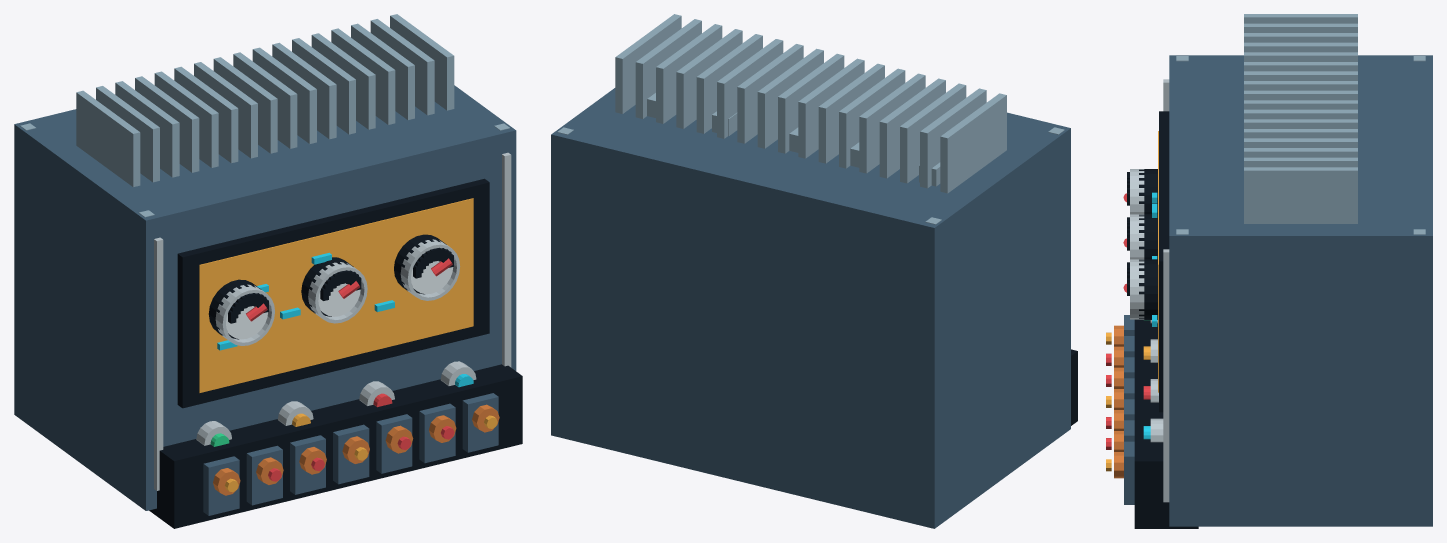
Rendered from 32_L73_MotorTorqueCurrentAnalyzer.fbx.
3 renders of one model, left to right at view 1: azimuth 30°, elevation 25°; view 2: azimuth 150°, elevation 25°; view 3: azimuth 270°, elevation 25°, orthographic. The views are drawn at different scales.
Parts seen in each view (by area): view 1: MotorTorqueCurrentAnalyzer; view 2: MotorTorqueCurrentAnalyzer; view 3: MotorTorqueCurrentAnalyzer.
Part boxes in pixels (x1=…): MotorTorqueCurrentAnalyzer: x1=14, y1=14, x2=522, y2=528; MotorTorqueCurrentAnalyzer: x1=551, y1=14, x2=1077, y2=528; MotorTorqueCurrentAnalyzer: x1=1106, y1=14, x2=1432, y2=528.
Bounding box in the file's own units: 120 × 109 × 91.74.
